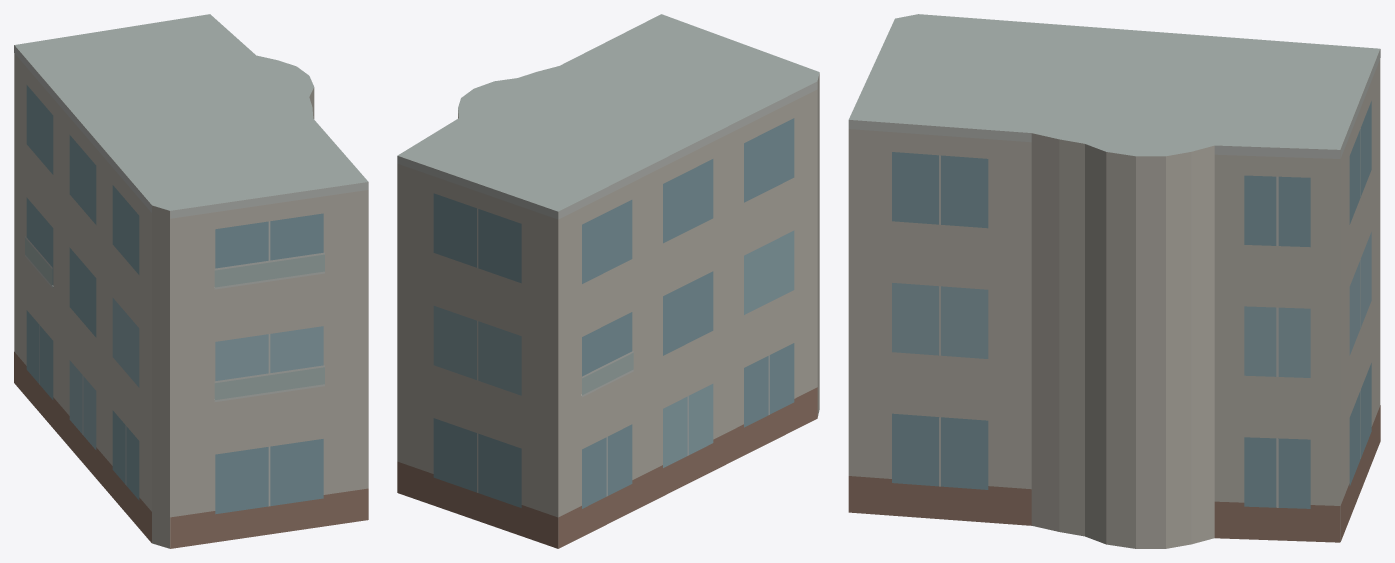
Rendered from survey-upis-32737687.glb.
3 renders of one model, left to right at view 1: azimuth 30°, elevation 25°; view 2: azimuth 150°, elevation 25°; view 3: azimuth 270°, elevation 25°, orthographic. The views are drawn at different scales.
Visible parts, largest first — view 1: survey-upis-32737687.tmp; view 2: survey-upis-32737687.tmp; view 3: survey-upis-32737687.tmp.
Part boxes in pixels (left/top/right/bottom): survey-upis-32737687.tmp: left=14, top=14, right=368, bottom=548; survey-upis-32737687.tmp: left=397, top=14, right=819, bottom=548; survey-upis-32737687.tmp: left=848, top=14, right=1380, bottom=548.
Size of the model in its own units: 8.09 by 10.4 by 12.78.
